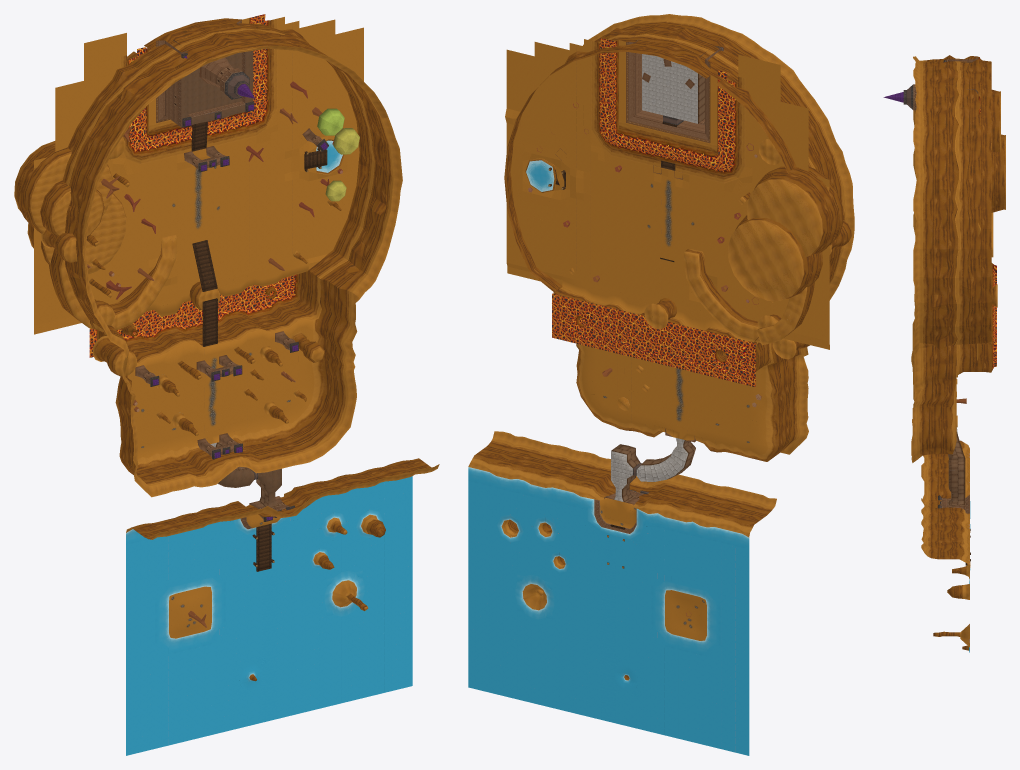
Rendered from SM_AP_LevelExport_0.glb.
The picture shows the model from 3 angles, left to right: view 1: azimuth 30°, elevation 25°; view 2: azimuth 150°, elevation 25°; view 3: azimuth 270°, elevation 25°; orthographic projection. The views are drawn at different scales.
Parts seen in each view (by area): view 1: SM_AP_LevelExport_0; view 2: SM_AP_LevelExport_0; view 3: SM_AP_LevelExport_0.
Part boxes in pixels (left/top/right/bottom): SM_AP_LevelExport_0: left=14, top=14, right=439, bottom=755; SM_AP_LevelExport_0: left=468, top=14, right=854, bottom=755; SM_AP_LevelExport_0: left=883, top=55, right=1005, bottom=652.
Size of the model in its own units: 214 by 383 by 70.09.
Materials: 1 (1 with a texture image).
